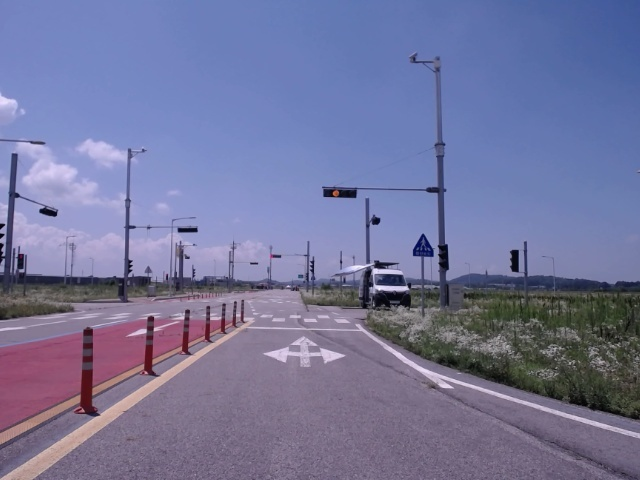orange_4: (323, 188, 358, 199)
